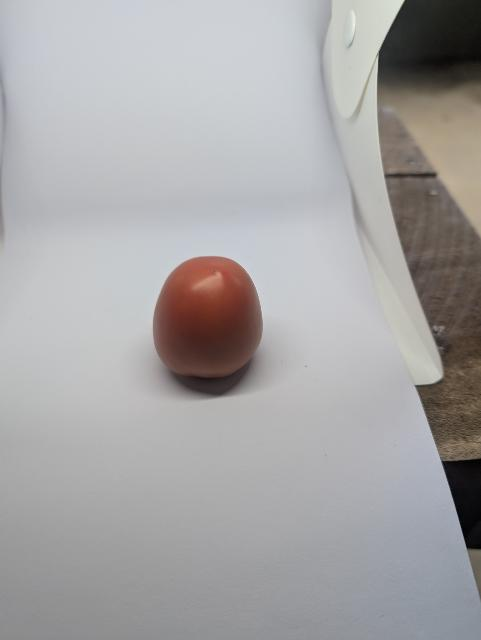red: (140, 246, 279, 409)
